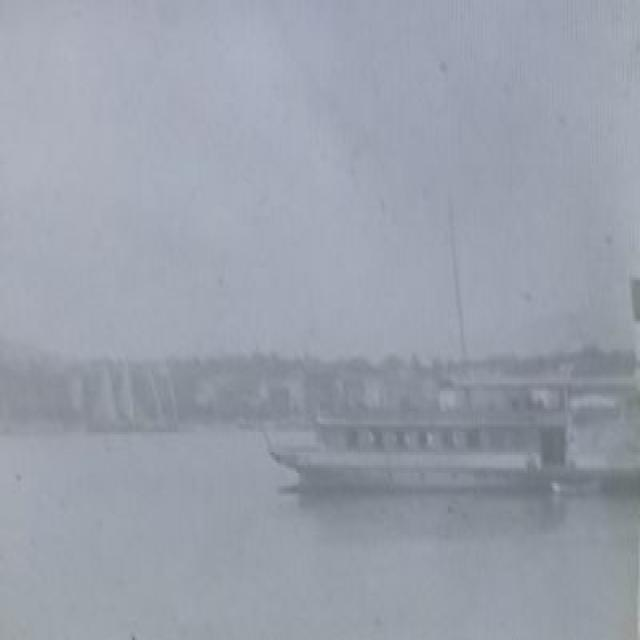houseboat: (260, 358, 589, 500)
